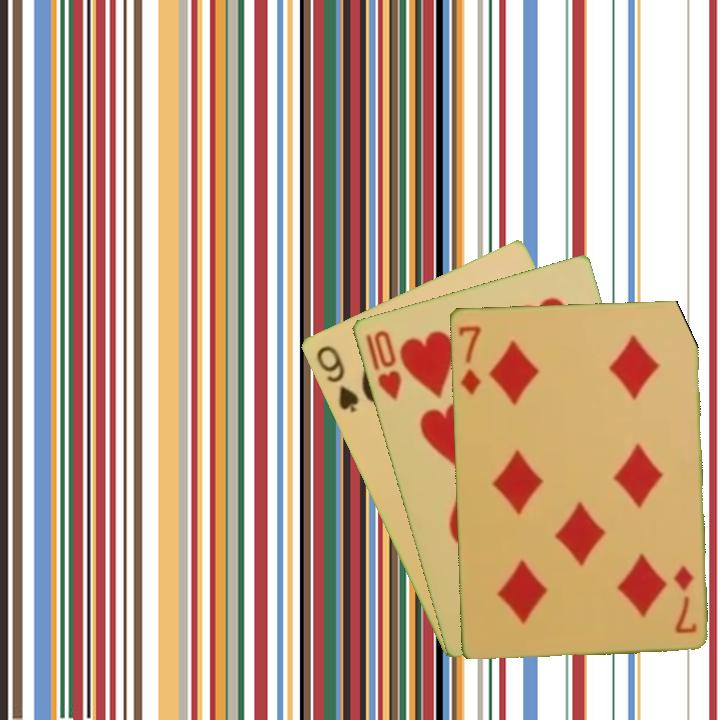10h: (369, 326, 404, 403)
7d: (454, 321, 484, 397), (669, 562, 699, 636)
9s: (312, 341, 362, 416)
